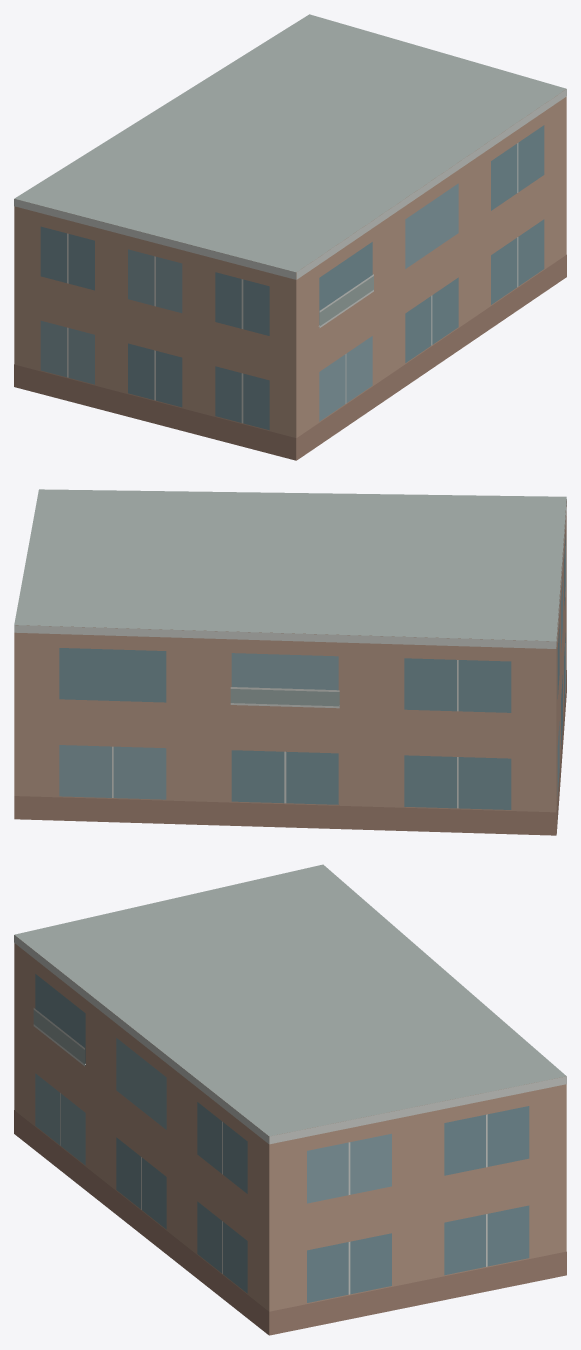
The model's file is survey-upis-32809493.glb.
3 renders of one model, top to bottom at view 1: azimuth 30°, elevation 25°; view 2: azimuth 150°, elevation 25°; view 3: azimuth 270°, elevation 25°, orthographic. The views are drawn at different scales.
Parts seen in each view (by area): view 1: survey-upis-32809493.tmp; view 2: survey-upis-32809493.tmp; view 3: survey-upis-32809493.tmp.
Boxes of the visible parts, box(x1,y1,x2,y2) form: survey-upis-32809493.tmp: box(14, 14, 566, 460); survey-upis-32809493.tmp: box(14, 489, 566, 835); survey-upis-32809493.tmp: box(14, 864, 566, 1335).
Size of the model in its own units: 17.89 by 6.1 by 15.36.
